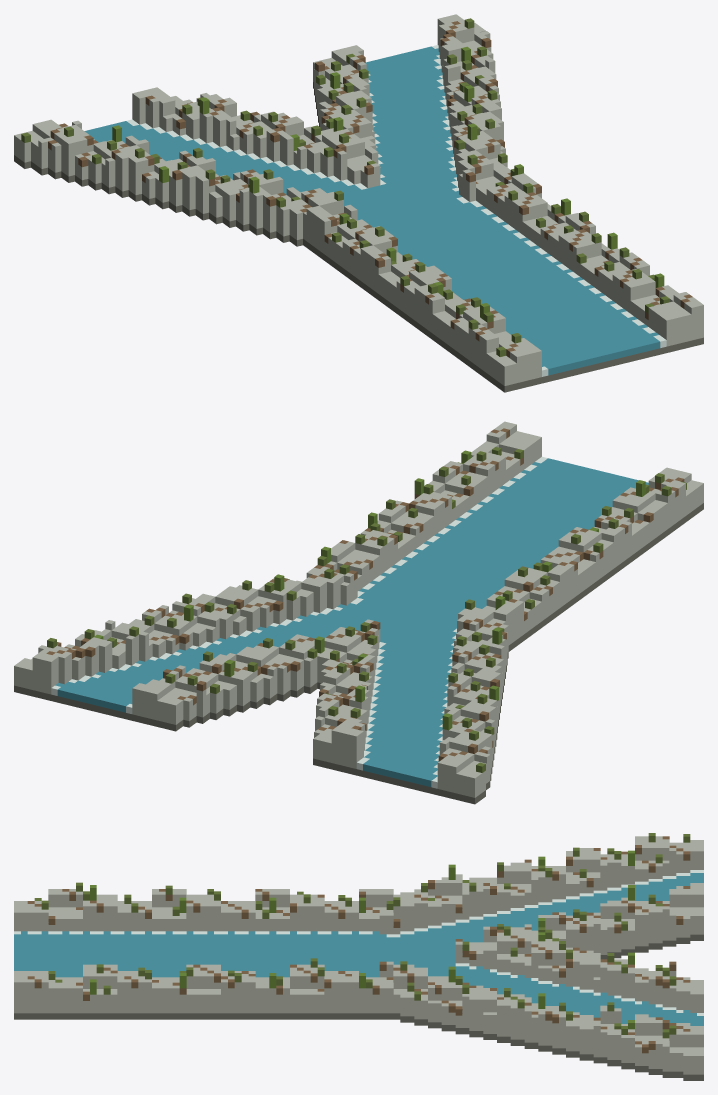
The model's file is visual-far.glb.
3 renders of one model, top to bottom at view 1: azimuth 30°, elevation 25°; view 2: azimuth 150°, elevation 25°; view 3: azimuth 270°, elevation 25°, orthographic. The views are drawn at different scales.
Visible parts, largest first — view 1: 支流汇口与河弯组件; view 2: 支流汇口与河弯组件; view 3: 支流汇口与河弯组件.
Part boxes in pixels (<box>): 支流汇口与河弯组件: <box>14,14,703,392</box>; 支流汇口与河弯组件: <box>14,421,703,804</box>; 支流汇口与河弯组件: <box>14,833,703,1080</box>.
Size of the model in its own units: 14.8 by 1.6 by 20.
7 materials, 5 textured.
